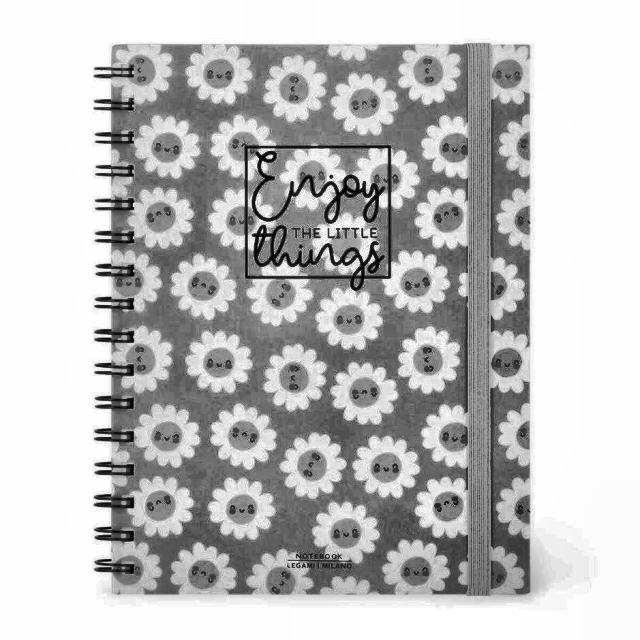Notebook: (73, 16, 567, 630)
